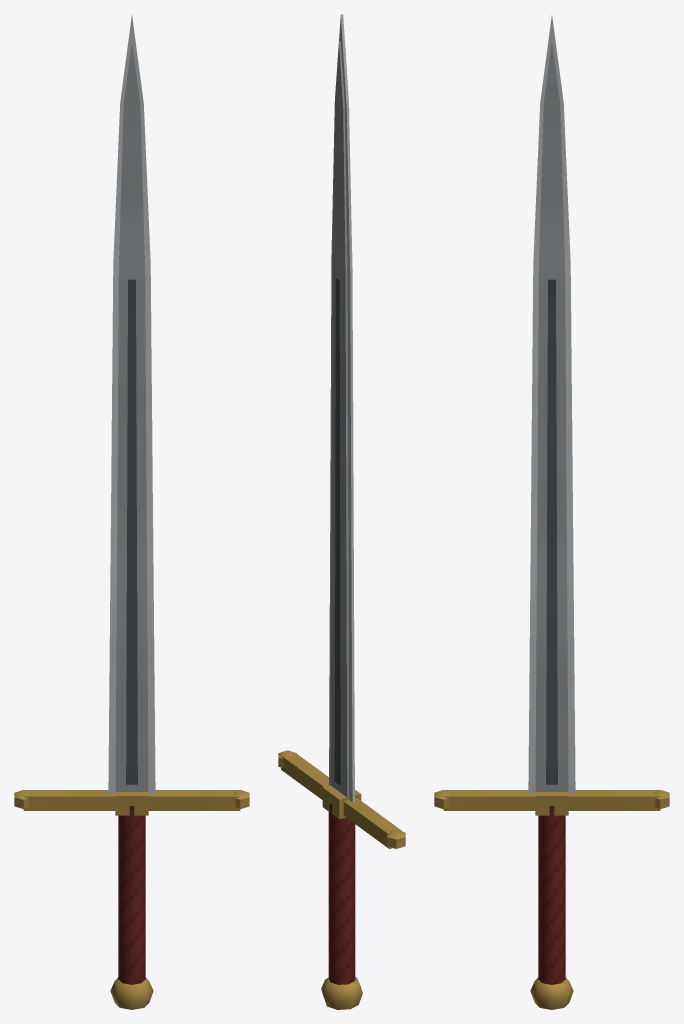
The model's file is longsword.obj.
3 views of the same model, side by side, from view 1: azimuth 90°, elevation 25°; view 2: azimuth 210°, elevation 25°; view 3: azimuth 270°, elevation 25° (orthographic).
Visible parts, largest first — view 1: longsword; view 2: longsword; view 3: longsword.
Part boxes in pixels (x1,y1,x2,y2): longsword: [14, 15, 249, 1009]; longsword: [278, 14, 405, 1009]; longsword: [434, 15, 669, 1009].
Bounding box in the file's own units: 0.044 × 1.11 × 0.2391.
1 material, 1 textured.
